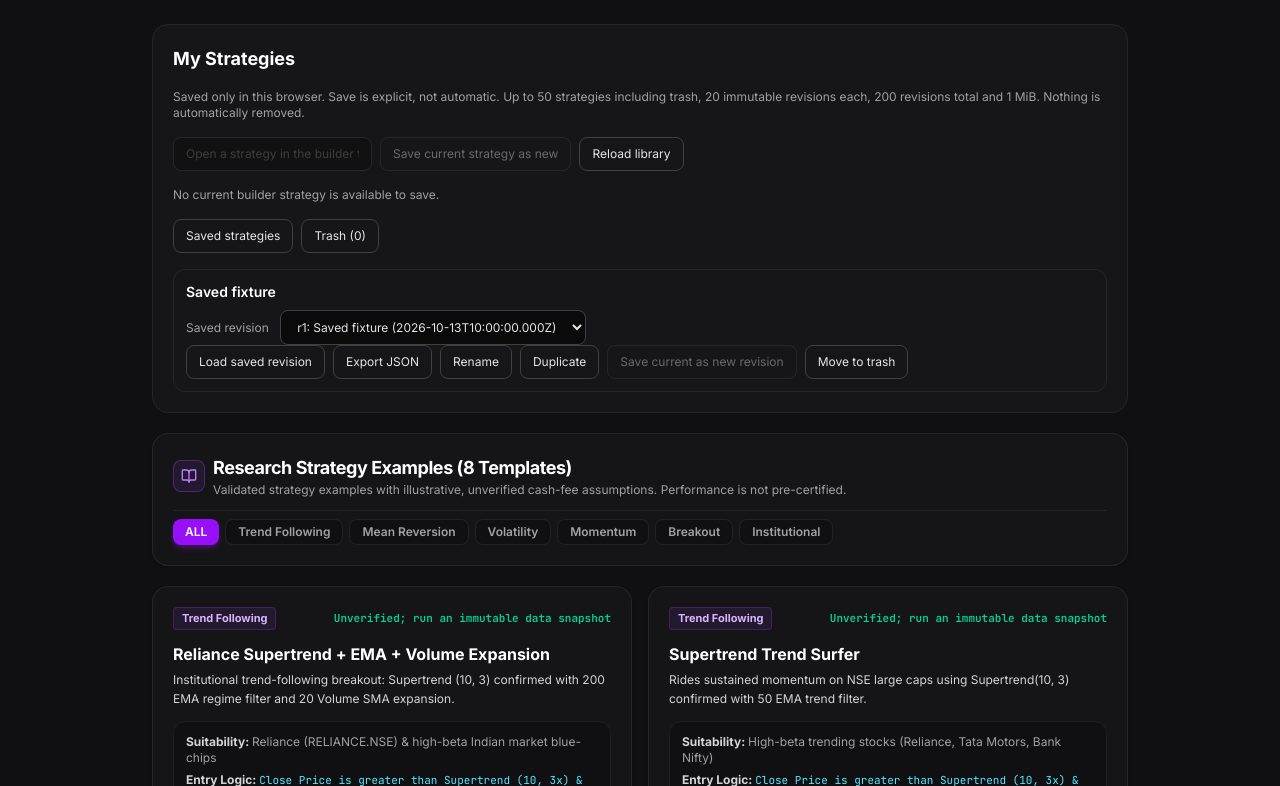
Test: My Strategies alongside immutable templates › exports selected validated JSON and cleans up its temporary download URL
What coordinates should you click on to do the following:
click the button "Export JSON"
I would click on:
 (383, 362)
Its box is top-left (333, 345), bottom-right (432, 379).
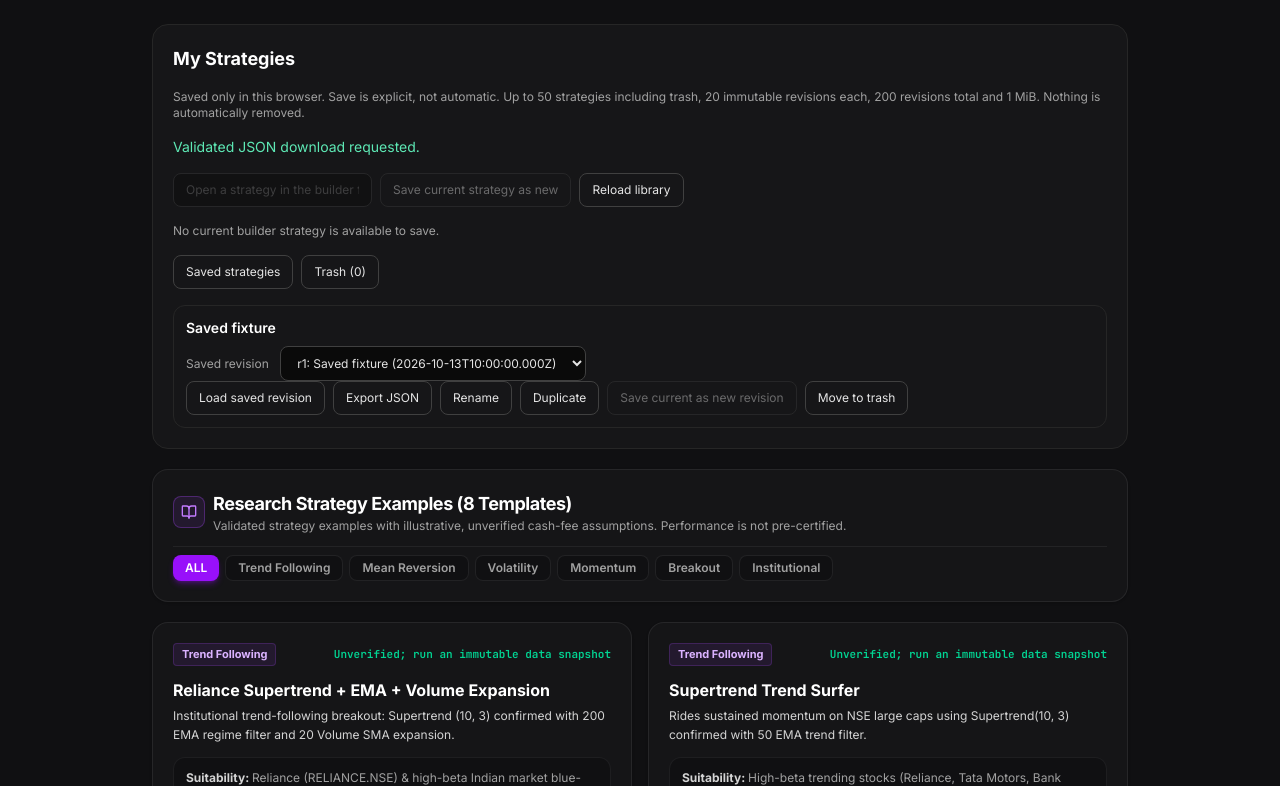
Expected: the message shows "Validated JSON download requested", top-left (173, 138), bottom-right (420, 155)
